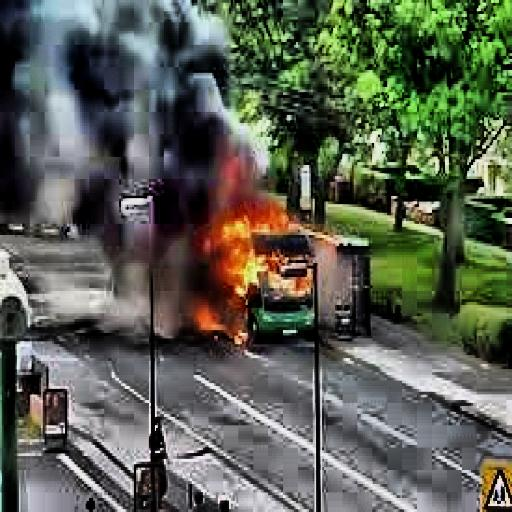fire: (179, 198, 322, 338)
